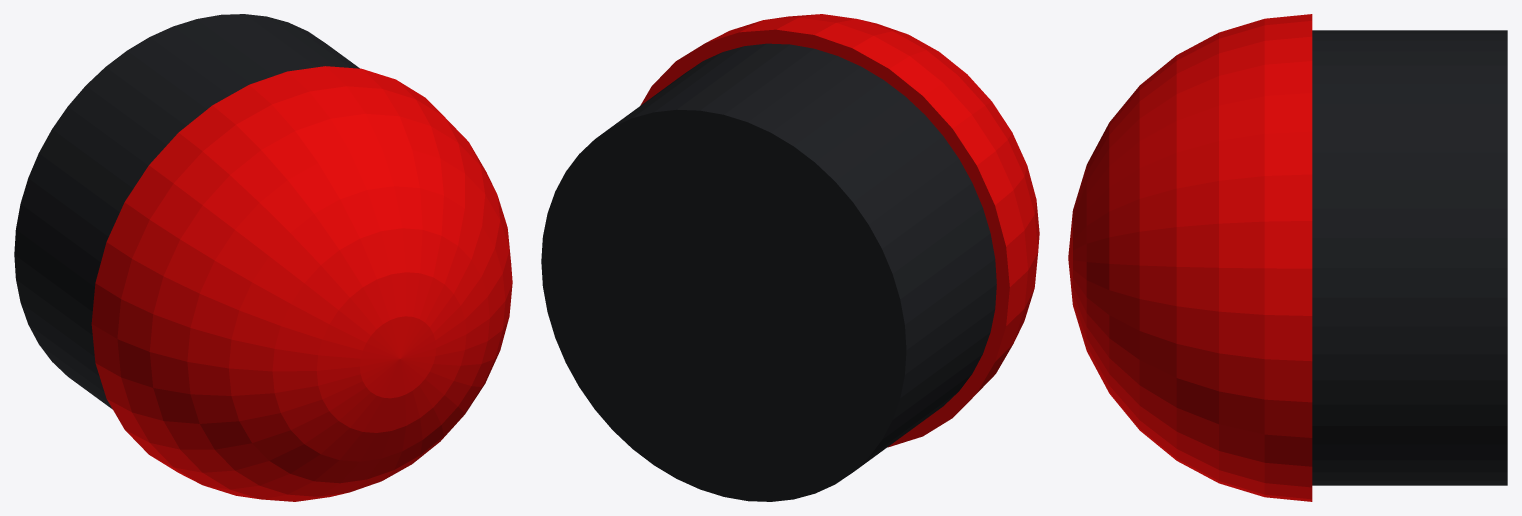
Rendered from aviation_light_ok.obj.
3 views of the same model, side by side, from view 1: azimuth 30°, elevation 25°; view 2: azimuth 150°, elevation 25°; view 3: azimuth 270°, elevation 25° (orthographic). The views are drawn at different scales.
Parts seen in each view (by area): view 1: aviation_light_ok; view 2: aviation_light_ok; view 3: aviation_light_ok.
Boxes of the visible parts, x1,y1,x2,y2 form: aviation_light_ok: (14,14,512,501); aviation_light_ok: (541,14,1039,501); aviation_light_ok: (1068,14,1507,501).
Bounding box in the file's own units: 0.15 × 0.15 × 0.135.
